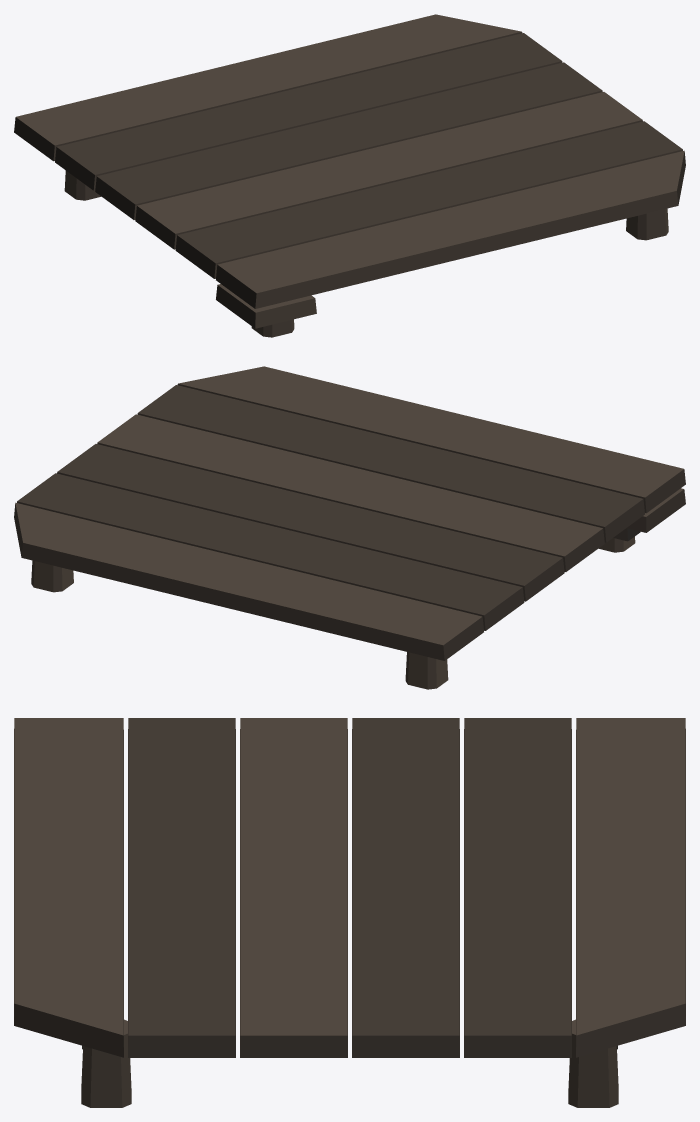
The model's file is i05_wooden_dock.glb.
3 views of the same model, one above another, from view 1: azimuth 30°, elevation 25°; view 2: azimuth 150°, elevation 25°; view 3: azimuth 270°, elevation 25° (orthographic). The views are drawn at different scales.
Visible parts, largest first — view 1: I05_Collapsed_DeckPlank_02_Board, I05_Collapsed_DeckPlank_04_Board, I05_Collapsed_DeckPlank_03_Board, I05_Collapsed_DeckPlank_05_Board, I05_Collapsed_DeckPlank_06_Board, I05_Collapsed_DeckPlank_01_Level, I05_Intact_DeckPlank_01_Board, I05_Collapsed_DeckPlank_01_DroppedCorner, I05_Damaged_DeckPlank_01_Board, I05_Collapsed_Post_BowLeft_Timber, I05_Collapsed_Post_BackRight_Timber; view 2: I05_Collapsed_DeckPlank_06_Board, I05_Collapsed_DeckPlank_03_Board, I05_Collapsed_DeckPlank_05_Board, I05_Collapsed_DeckPlank_04_Board, I05_Collapsed_DeckPlank_02_Board, I05_Collapsed_DeckPlank_01_Level, I05_Intact_DeckPlank_01_Board, I05_Damaged_DeckPlank_01_Board, I05_Collapsed_Post_BackRight_Timber, I05_Collapsed_Post_BowRight_Timber, I05_Collapsed_DeckPlank_01_DroppedCorner; view 3: I05_Collapsed_DeckPlank_02_Board, I05_Collapsed_DeckPlank_03_Board, I05_Collapsed_DeckPlank_04_Board, I05_Collapsed_DeckPlank_05_Board, I05_Collapsed_DeckPlank_06_Board, I05_Intact_DeckPlank_01_Board, I05_Collapsed_DeckPlank_01_Level, I05_Damaged_DeckPlank_01_Board, I05_Collapsed_Post_BowLeft_Timber, I05_Collapsed_Post_BowRight_Timber.
Part boxes in pixels (x1,y1,x2,y2): I05_Collapsed_DeckPlank_02_Board: (175, 121, 682, 278); I05_Collapsed_DeckPlank_04_Board: (95, 62, 602, 219); I05_Collapsed_DeckPlank_03_Board: (135, 92, 642, 249); I05_Collapsed_DeckPlank_05_Board: (55, 33, 562, 190); I05_Collapsed_DeckPlank_06_Board: (14, 14, 522, 161); I05_Collapsed_DeckPlank_01_Level: (282, 150, 684, 277); I05_Intact_DeckPlank_01_Board: (216, 172, 680, 308); I05_Collapsed_DeckPlank_01_DroppedCorner: (216, 284, 316, 328); I05_Damaged_DeckPlank_01_Board: (284, 151, 685, 257); I05_Collapsed_Post_BowLeft_Timber: (626, 208, 668, 240); I05_Collapsed_Post_BackRight_Timber: (64, 170, 101, 200); I05_Collapsed_DeckPlank_06_Board: (14, 502, 483, 660); I05_Collapsed_DeckPlank_03_Board: (97, 414, 604, 571); I05_Collapsed_DeckPlank_05_Board: (17, 473, 524, 630); I05_Collapsed_DeckPlank_04_Board: (57, 444, 564, 601); I05_Collapsed_DeckPlank_02_Board: (137, 385, 644, 542); I05_Collapsed_DeckPlank_01_Level: (179, 366, 619, 472); I05_Intact_DeckPlank_01_Board: (177, 369, 685, 513); I05_Damaged_DeckPlank_01_Board: (179, 366, 609, 481); I05_Collapsed_Post_BackRight_Timber: (405, 652, 448, 689); I05_Collapsed_Post_BowRight_Timber: (31, 560, 73, 592); I05_Collapsed_DeckPlank_01_DroppedCorner: (626, 488, 685, 532); I05_Collapsed_DeckPlank_02_Board: (128, 718, 235, 1057); I05_Collapsed_DeckPlank_03_Board: (240, 718, 347, 1057); I05_Collapsed_DeckPlank_04_Board: (352, 718, 459, 1057); I05_Collapsed_DeckPlank_05_Board: (464, 718, 571, 1057); I05_Collapsed_DeckPlank_06_Board: (576, 718, 685, 1057); I05_Intact_DeckPlank_01_Board: (14, 718, 123, 1048); I05_Collapsed_DeckPlank_01_Level: (14, 762, 123, 1057); I05_Damaged_DeckPlank_01_Board: (14, 762, 123, 1057); I05_Collapsed_Post_BowLeft_Timber: (81, 1019, 131, 1107); I05_Collapsed_Post_BowRight_Timber: (568, 1019, 618, 1107).
Size of the model in its own units: 4.5 by 0.6 by 4.
